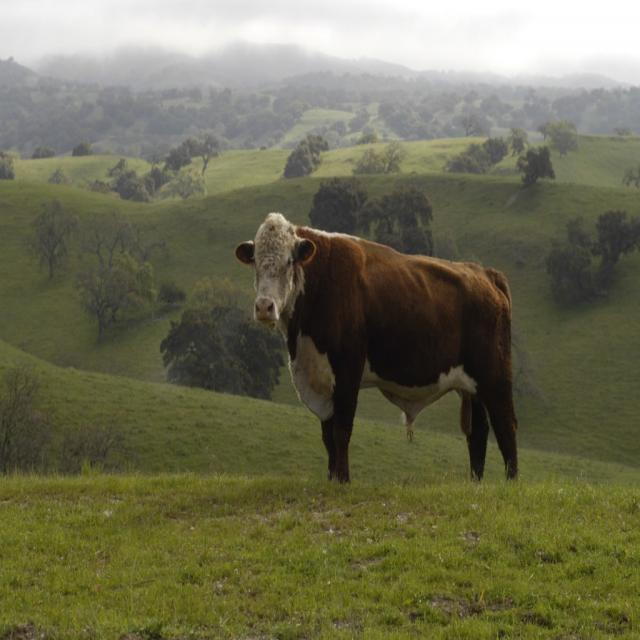Cattle: (235, 212, 520, 483)
